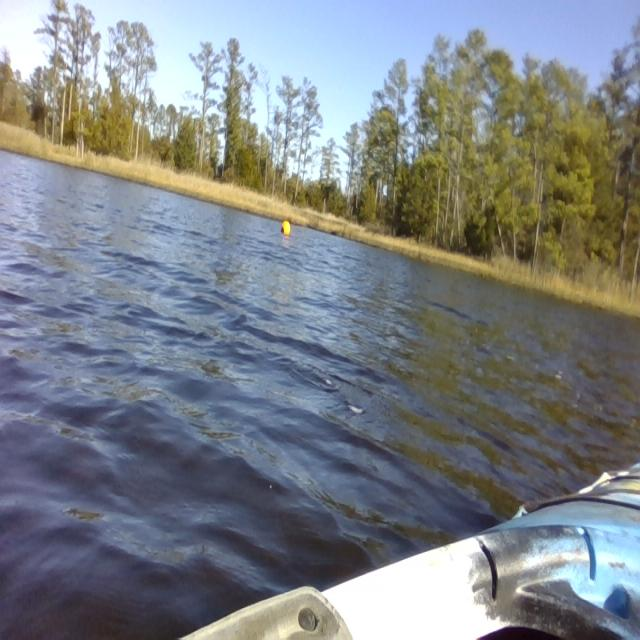Buoy: (278, 218, 293, 238)
